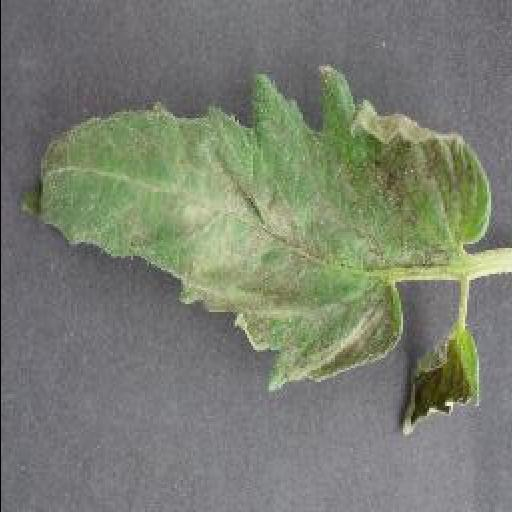disease_tomato: (19, 64, 493, 388), (398, 329, 480, 439)
